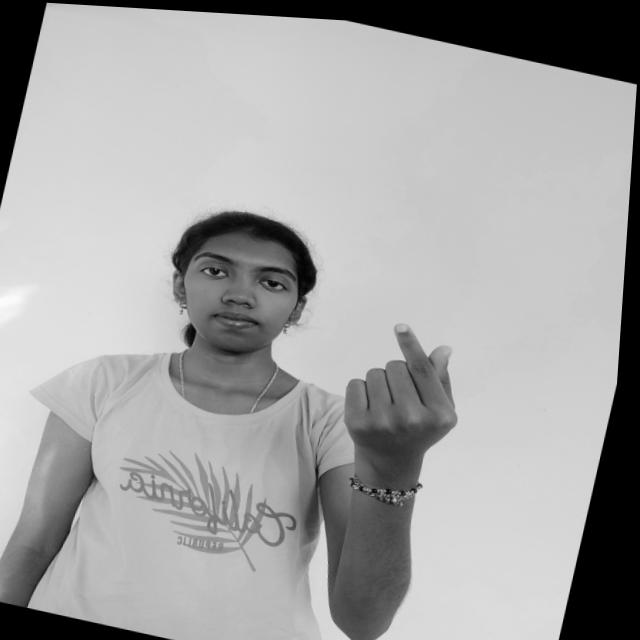Grattitude: (324, 298, 498, 483)
